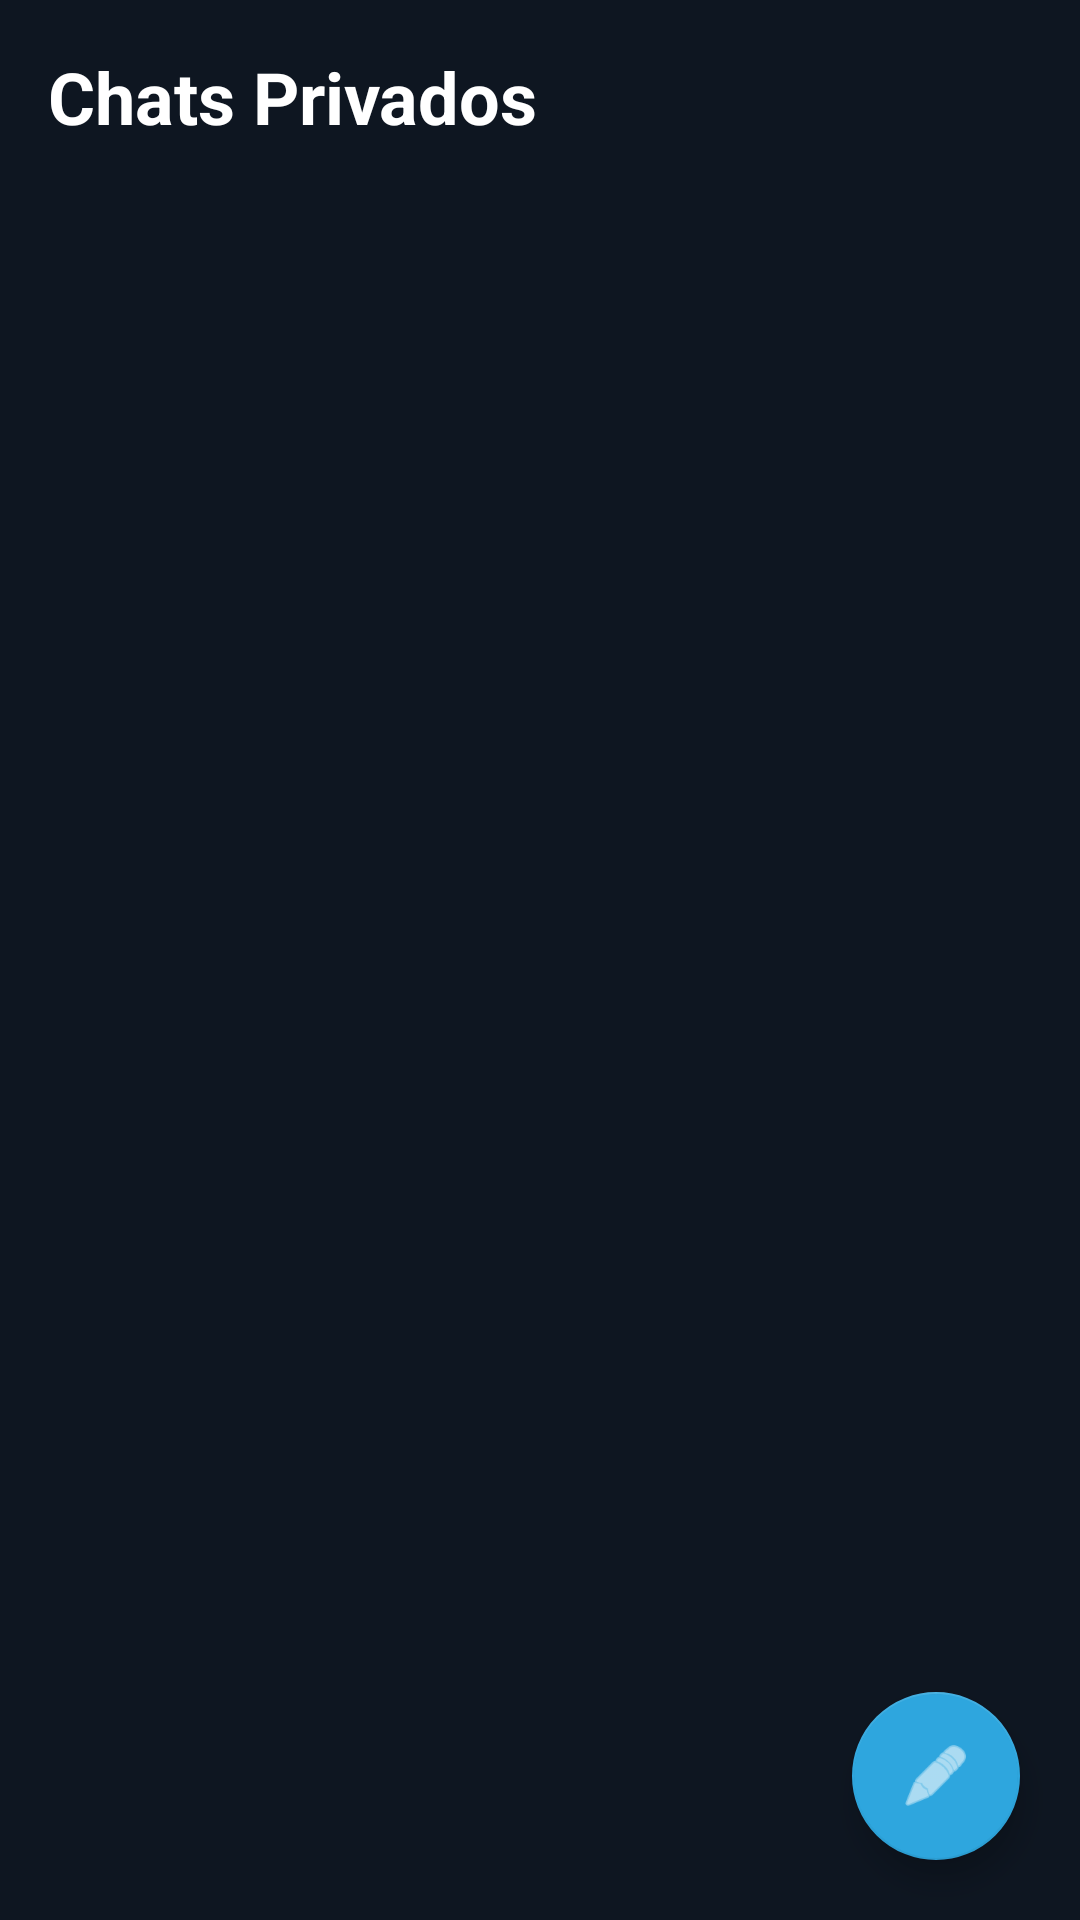

Icon click points for this 1080px x 1920px phone screenshot, format point (x, y):
Nueva Conversación: point (936, 1776)
